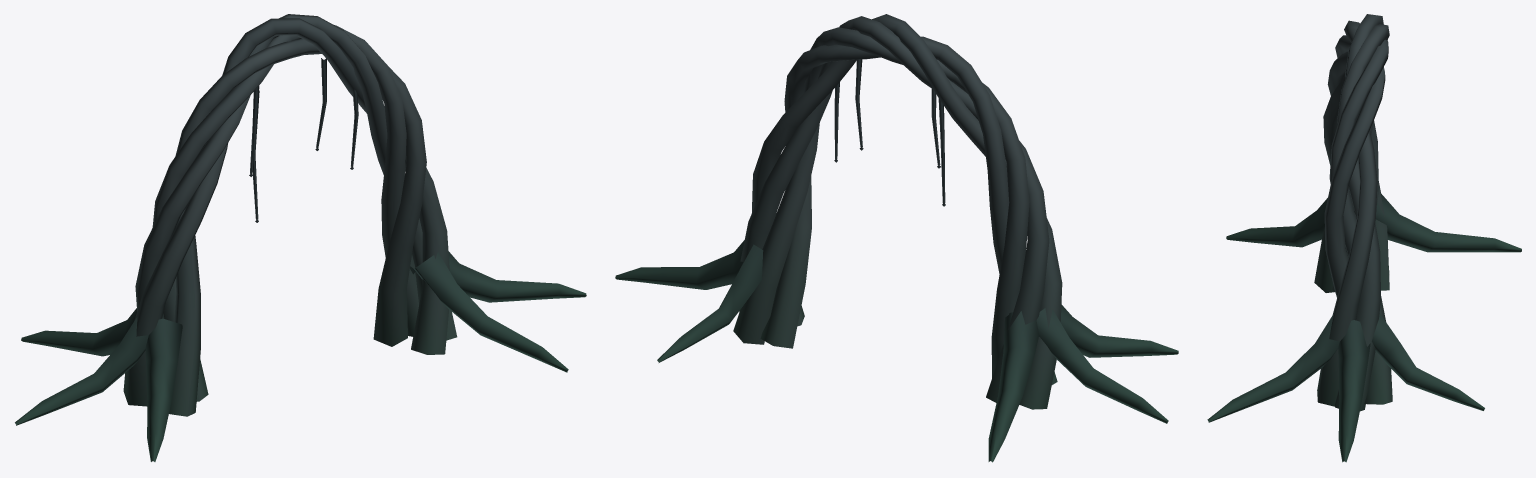
File: rootArch_lod1.glb
The picture shows the model from 3 angles, left to right: view 1: azimuth 30°, elevation 25°; view 2: azimuth 150°, elevation 25°; view 3: azimuth 270°, elevation 25°; orthographic projection. The views are drawn at different scales.
Visible parts, largest first — view 1: root arch; view 2: root arch; view 3: root arch.
Boxes of the visible parts, box(x1,y1,x2,y2) form: root arch: box(15, 14, 586, 461); root arch: box(615, 14, 1178, 462); root arch: box(1207, 14, 1521, 462).
Bounding box in the file's own units: 12.09 × 7.22 × 6.33.
